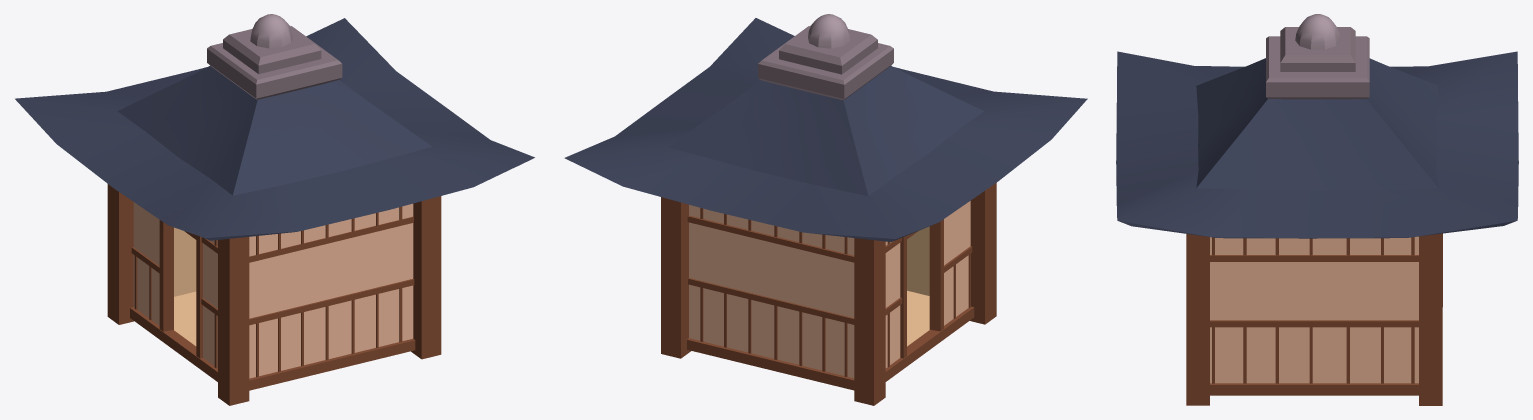
Rendered from houme05_1.fbx.
The picture shows the model from 3 angles, left to right: view 1: azimuth 30°, elevation 25°; view 2: azimuth 150°, elevation 25°; view 3: azimuth 270°, elevation 25°; orthographic projection. The views are drawn at different scales.
Visible parts, largest first — view 1: houme05_1; view 2: houme05_1; view 3: houme05_1.
Boxes of the visible parts, left/top/right/bottom form: houme05_1: left=15, top=14, right=534, bottom=405; houme05_1: left=564, top=14, right=1087, bottom=405; houme05_1: left=1116, top=14, right=1518, bottom=405.
Size of the model in its own units: 914 by 840 by 914.
